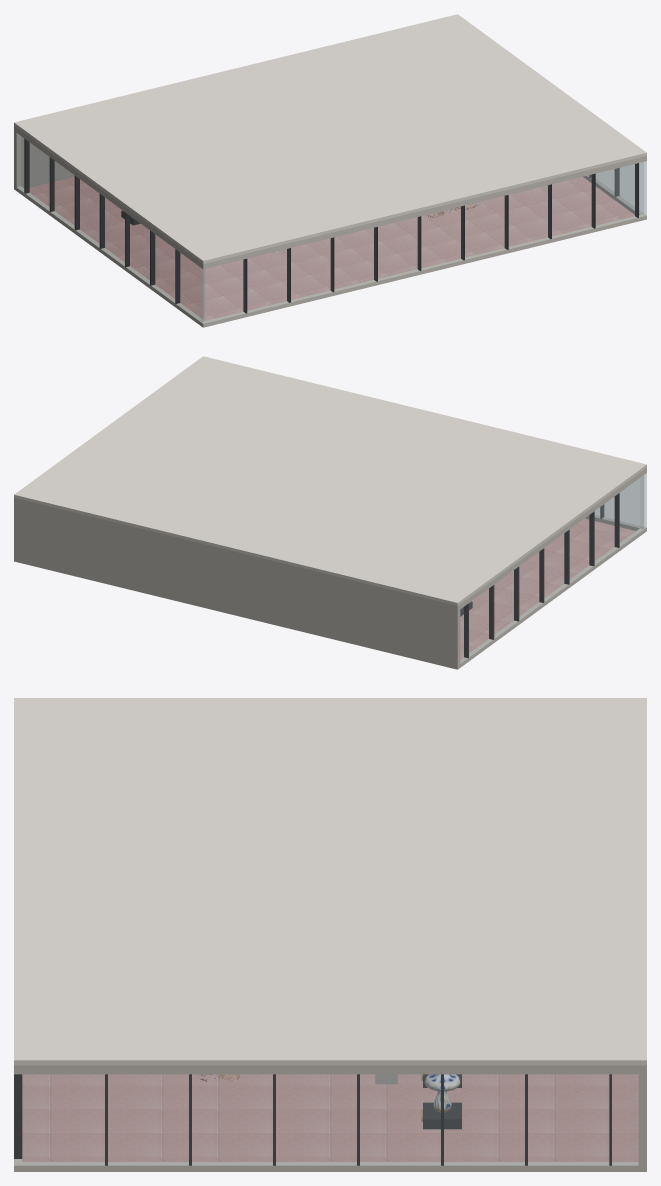
File: inner-13.glb
3 renders of one model, top to bottom at view 1: azimuth 30°, elevation 25°; view 2: azimuth 150°, elevation 25°; view 3: azimuth 270°, elevation 25°, orthographic. The views are drawn at different scales.
Visible parts, largest first — view 1: IN_ceiling, IN_floor, IN_glass_s, IN_glass_w, IN_wall_s_sill, IN_wall_s_head, IN_wall_n, IN_wall_w_sill, IN_glass_e, IN_wall_w_head; view 2: IN_ceiling, IN_wall_n, IN_glass_w, IN_floor, IN_wall_w_sill, IN_glass_s, IN_wall_w_head; view 3: IN_ceiling, IN_glass_e, IN_floor, IN_wall_e_head, IN_wall_e_sill, IN_wall_n, EX_plinth_m3, IN_mullion_s_10, EX_monster_3, IN_glass_s.
Part boxes in pixels (x1,y1,x2,y2): IN_ceiling: (14,14,646,263); IN_floor: (29,177,634,320); IN_glass_s: (201,161,646,323); IN_glass_w: (17,133,204,321); IN_wall_s_sill: (200,214,646,327); IN_wall_s_head: (200,156,646,269); IN_wall_n: (14,126,74,190); IN_wall_w_sill: (16,186,203,325); IN_glass_e: (588,162,643,214); IN_wall_w_head: (16,128,200,266); IN_ceiling: (14,356,646,605); IN_wall_n: (14,498,460,669); IN_glass_w: (460,475,643,663); IN_floor: (460,518,635,659); IN_wall_w_sill: (460,528,644,667); IN_glass_s: (595,473,646,528); IN_wall_w_head: (460,470,644,608); IN_ceiling: (14,698,646,1065); IN_glass_e: (22,1074,638,1165); IN_floor: (22,1074,638,1161); IN_wall_e_head: (22,1065,638,1074); IN_wall_e_sill: (22,1162,638,1171); IN_wall_n: (638,1065,646,1171); EX_plinth_m3: (423,1102,461,1129); IN_mullion_s_10: (14,1074,22,1158); EX_monster_3: (424,1074,460,1112); IN_glass_s: (14,1075,21,1164).
Size of the model in its own units: 30.6 by 4.43 by 22.6.
14 materials, 7 textured.
